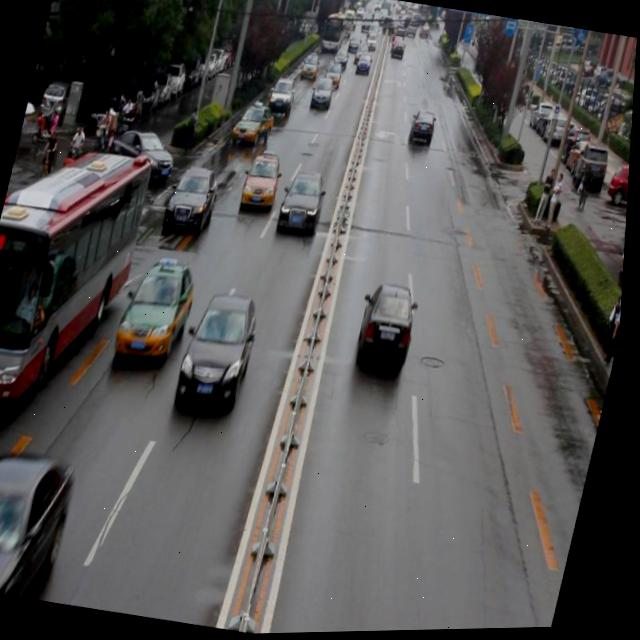car: (0, 438, 87, 603), (176, 290, 267, 413), (115, 251, 205, 366), (353, 277, 427, 377), (162, 160, 224, 243), (103, 123, 182, 187), (275, 166, 331, 241), (239, 147, 287, 214), (232, 98, 279, 151), (266, 76, 299, 121), (407, 106, 439, 151), (310, 79, 336, 110)
van: (0, 131, 159, 419)
